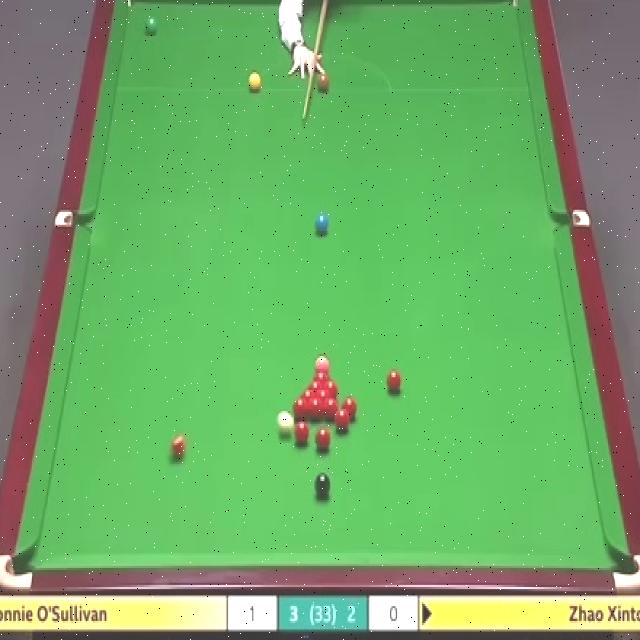black-ball: (314, 472, 332, 500)
blue-ball: (315, 214, 329, 234)
brown-ball: (316, 73, 330, 93)
green-ball: (146, 17, 158, 36)
pink-ball: (314, 353, 329, 368)
red-ball: (169, 434, 187, 460), (294, 421, 311, 446), (315, 427, 331, 452), (386, 370, 402, 395), (323, 398, 339, 422), (292, 397, 308, 420), (342, 397, 356, 421), (335, 410, 349, 433), (308, 397, 322, 419), (324, 379, 338, 396), (311, 368, 330, 379), (307, 380, 323, 390), (315, 389, 332, 398), (300, 389, 315, 398)
white-ball: (277, 411, 292, 438)
yellow-ball: (247, 72, 261, 92)
